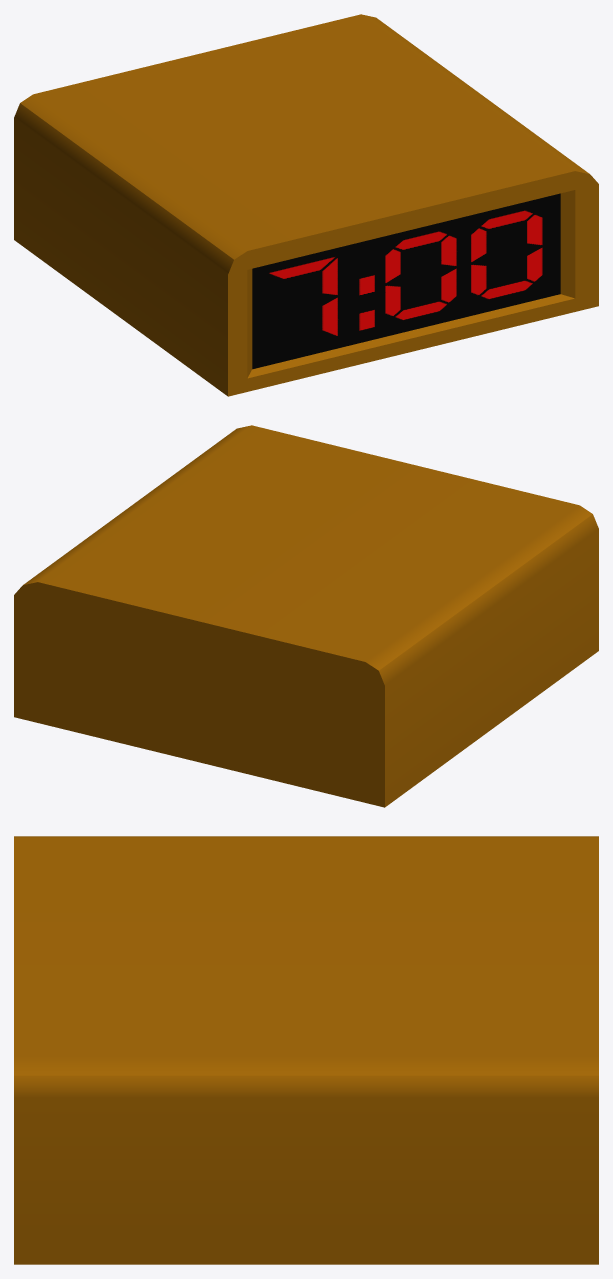
File: alarmClock.fbx
3 renders of one model, top to bottom at view 1: azimuth 30°, elevation 25°; view 2: azimuth 150°, elevation 25°; view 3: azimuth 270°, elevation 25°, orthographic. The views are drawn at different scales.
Visible parts, largest first — view 1: polySurface1; view 2: polySurface1; view 3: polySurface1.
Part boxes in pixels (x1,y1,x2,y2): polySurface1: (14, 14, 598, 396); polySurface1: (14, 425, 598, 807); polySurface1: (14, 836, 598, 1264).
Bounding box in the file's own units: 32.1 × 11.66 × 32.1.
